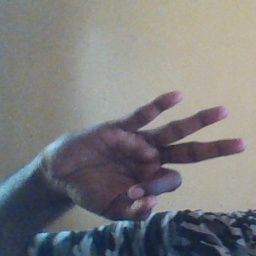K: (40, 85, 249, 220)
